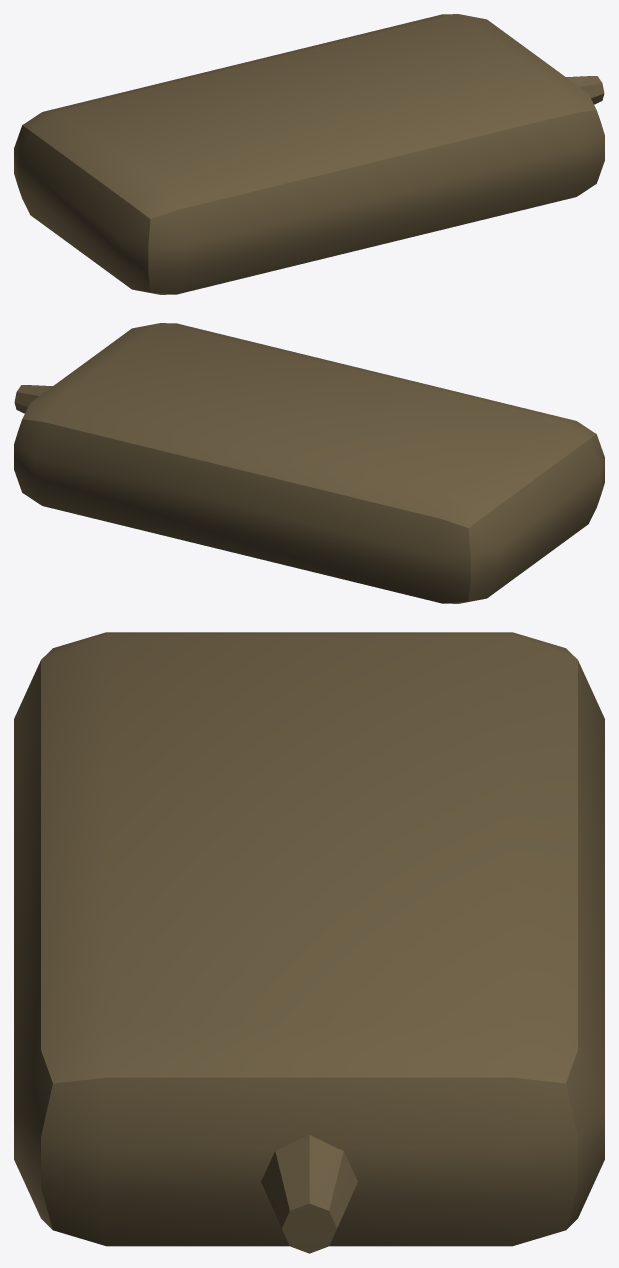
File: sandbag_single.glb
The picture shows the model from 3 angles, top to bottom: view 1: azimuth 30°, elevation 25°; view 2: azimuth 150°, elevation 25°; view 3: azimuth 270°, elevation 25°; orthographic projection. The views are drawn at different scales.
Visible parts, largest first — view 1: sandbag_single_LOD0; view 2: sandbag_single_LOD0; view 3: sandbag_single_LOD0.
Part boxes in pixels (box(x1,y1,x2,y2)): sandbag_single_LOD0: box(14, 14, 604, 294); sandbag_single_LOD0: box(14, 323, 604, 603); sandbag_single_LOD0: box(14, 632, 604, 1253).
Size of what is drawn, in the model's own units: 0.66 by 0.13 by 0.32.
